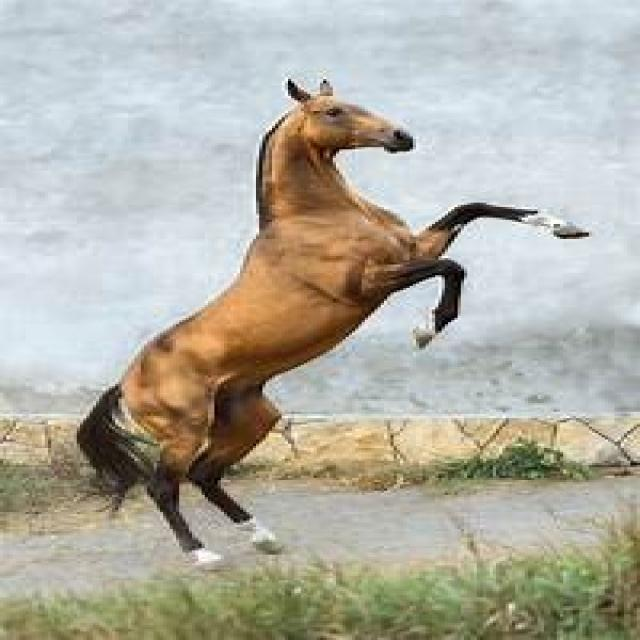horse: (74, 79, 586, 557)
